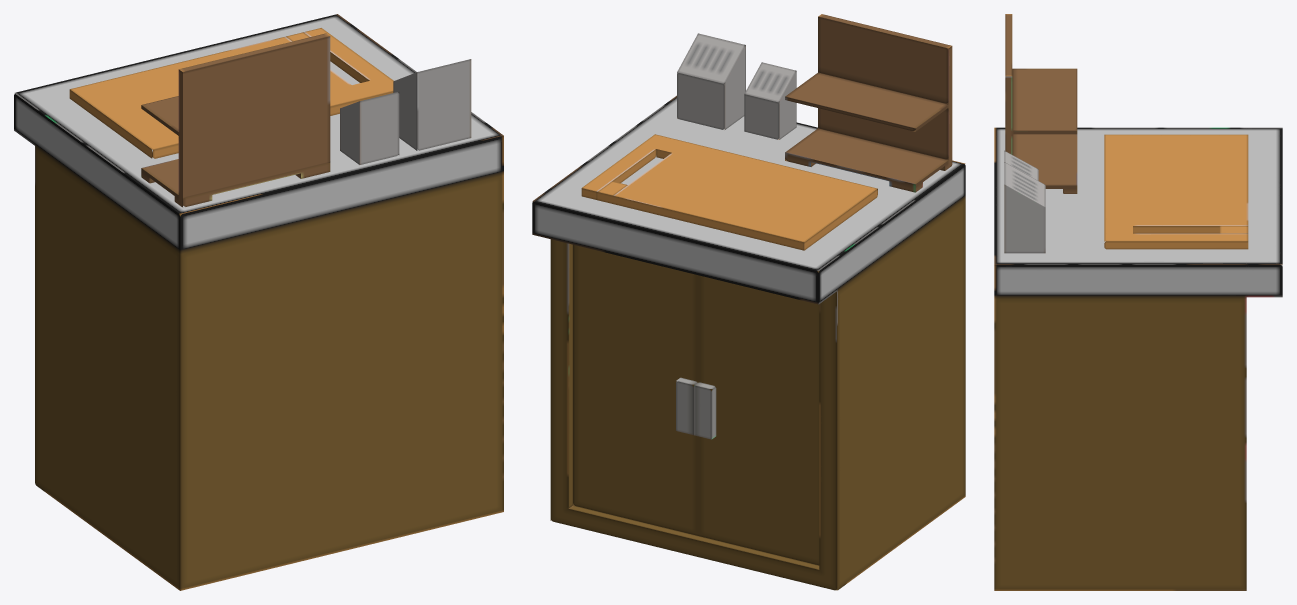
The model's file is food_prep_station.fbx.
3 renders of one model, left to right at view 1: azimuth 30°, elevation 25°; view 2: azimuth 150°, elevation 25°; view 3: azimuth 270°, elevation 25°, orthographic. The views are drawn at different scales.
Visible parts, largest first — view 1: cube, cube_4, cube_2, cube_1, cube_3; view 2: cube, cube_4, cube_2, cube_1, cube_3; view 3: cube, cube_2, cube_4, cube_1, cube_3.
Boxes of the visible parts, x1,y1,x2,y2 form: cube: (14,14,503,590); cube_4: (141,33,330,207); cube_2: (69,28,393,158); cube_1: (393,59,471,150); cube_3: (340,91,399,164); cube: (532,95,965,590); cube_4: (785,14,952,192); cube_2: (581,134,877,250); cube_1: (677,33,745,129); cube_3: (744,62,796,139); cube: (994,127,1282,590); cube_2: (1104,134,1248,249); cube_4: (1005,14,1077,193); cube_1: (1004,162,1045,253); cube_3: (1004,150,1038,180).
Size of the model in its own units: 112 by 170 by 100.
1 material, 1 textured.
